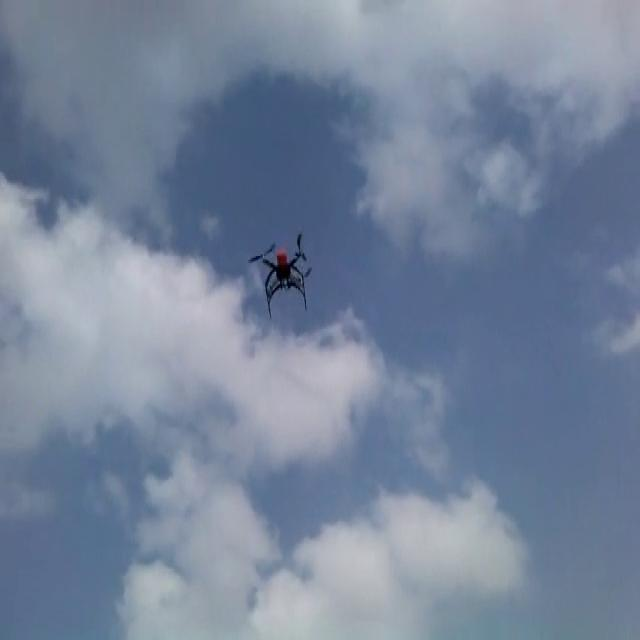drone: (245, 225, 312, 324)
